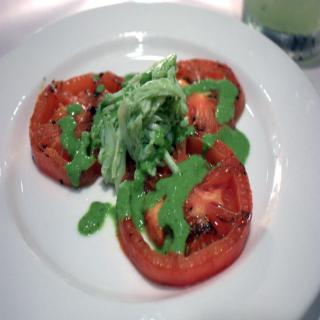tomato: (117, 128, 253, 286), (29, 73, 124, 186), (175, 56, 244, 137)
